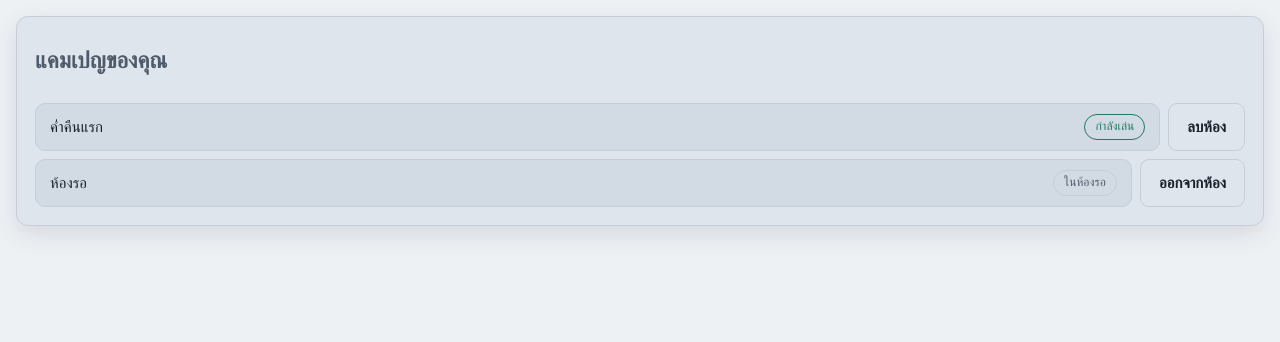
Test: MyCampaigns › deletes the room via DELETE /api/campaigns/[id] with the token and removes the row
The width and height of the screenshot is (1280, 342).
Step 1. Click the button "ลบห้อง" → (1207, 127), box [1168,103,1245,151]
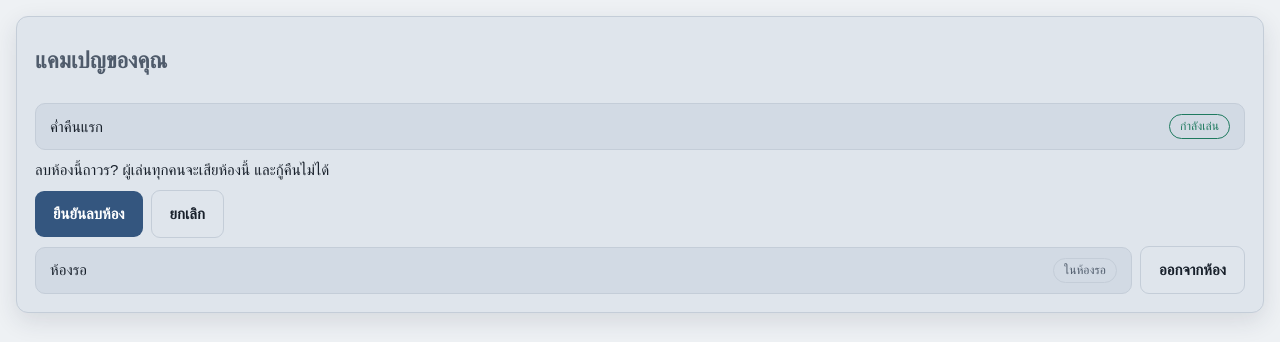
Step 2. Click the button "ยืนยันลบห้อง" → (89, 214), box [35,191,143,237]
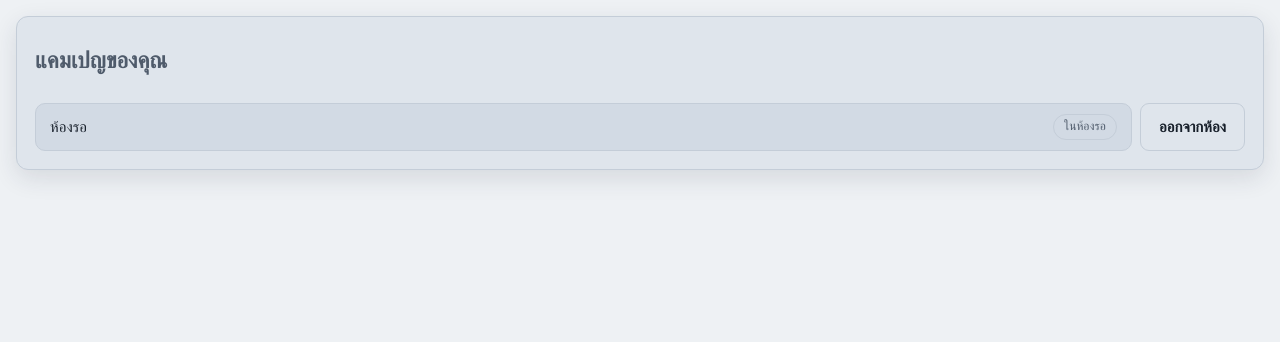
Expected: the text "ห้องรอ" is shown, [50,115,87,139]
Result: the link "ค่ำคืนแรก" is gone
